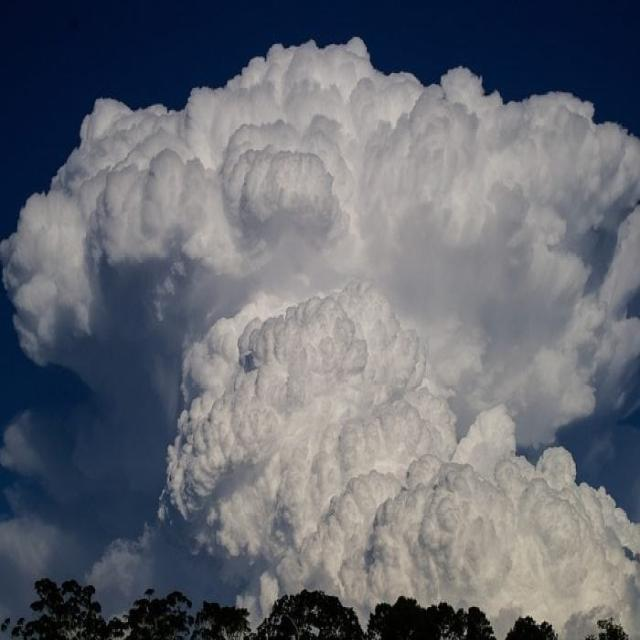cumulonimbus: (4, 27, 640, 581)
